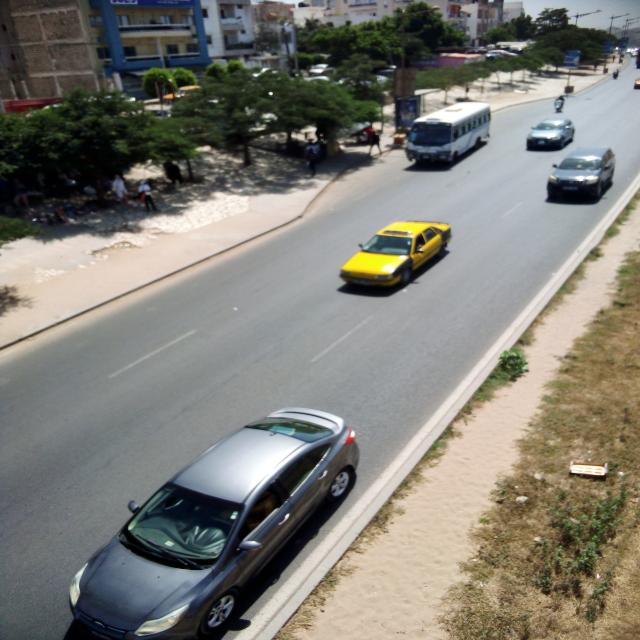bus tata: (408, 104, 493, 164)
particulier: (69, 409, 361, 640), (548, 147, 616, 202), (528, 119, 576, 151)
taxi: (341, 222, 453, 287)
